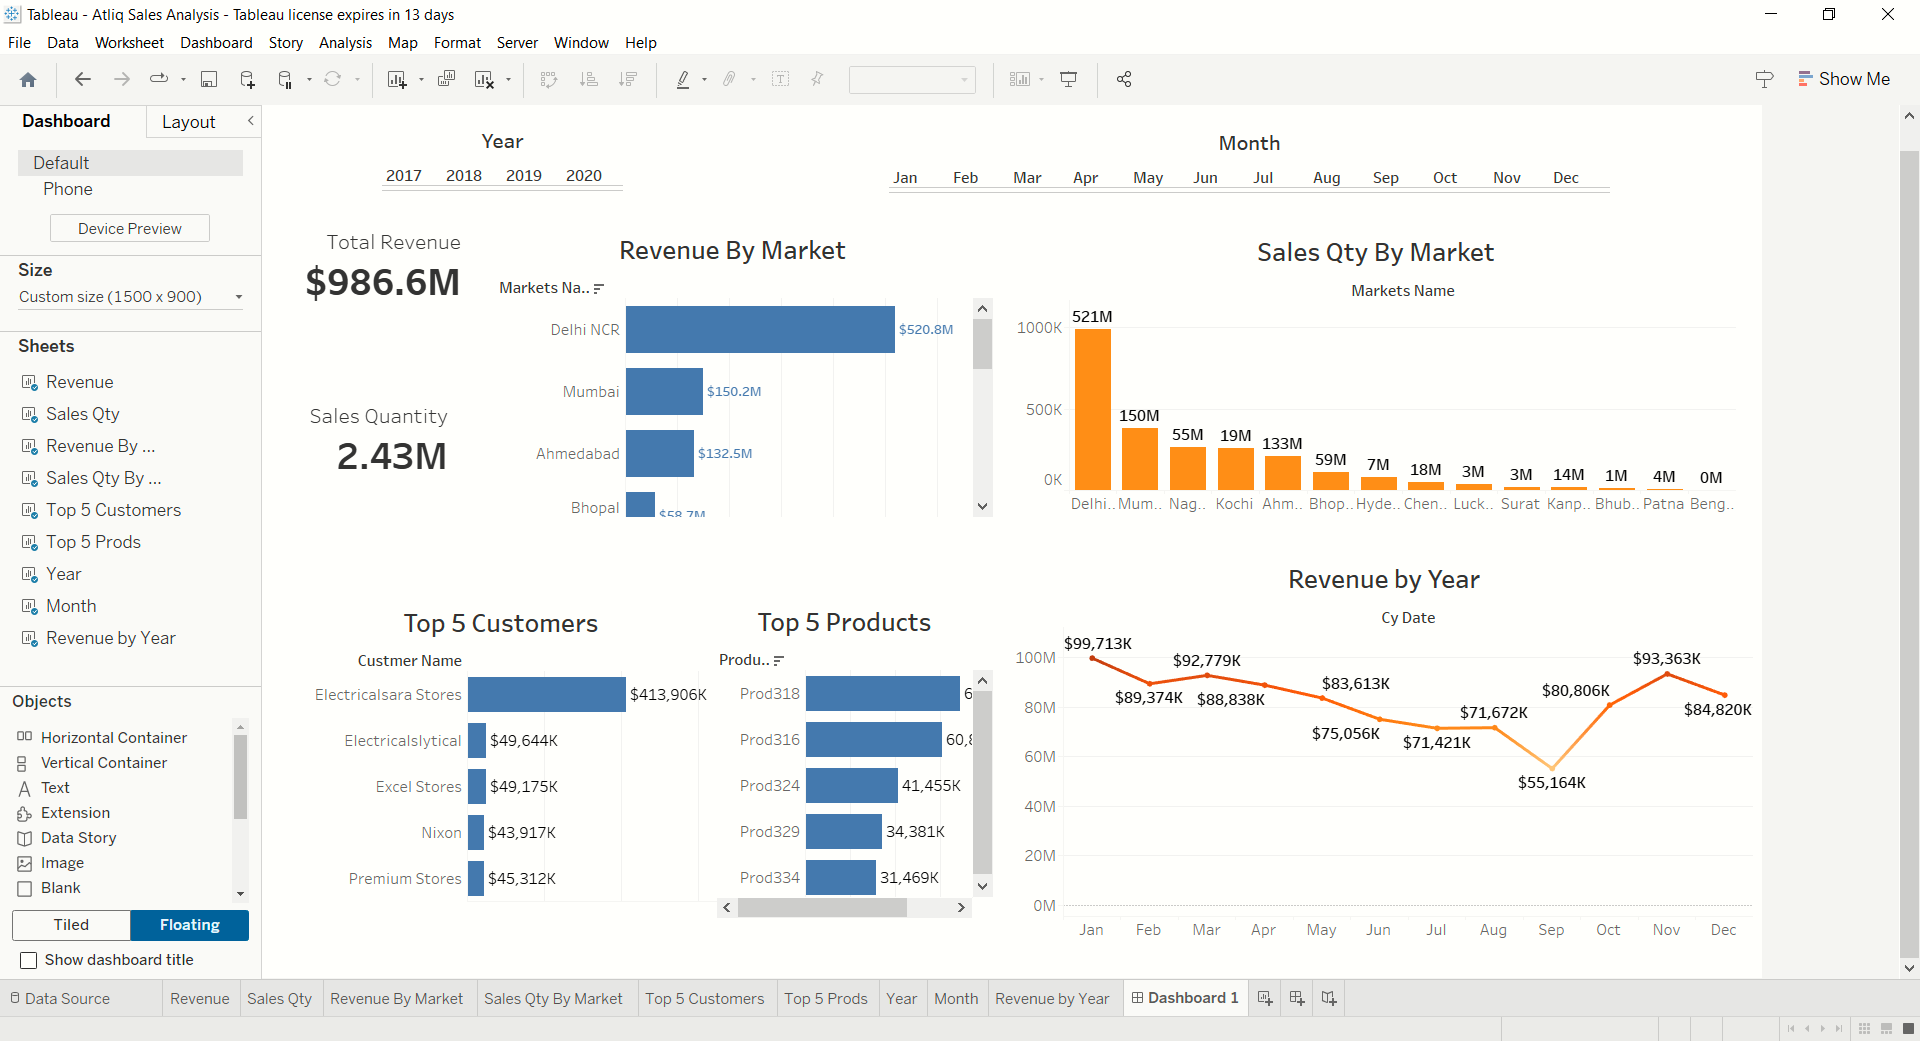

The page's visual inventory and layout, read from the dashboard file:
{"tool":"tableau","page":{"name":"Dashboard 1","canvas":[1500,900],"ordinal":0},"visuals":[{"type":"worksheet","title":"Year","mark":"Automatic","cols":["cy_date"],"box":[120,44,246,79]},{"type":"worksheet","title":"Month","mark":"Automatic","cols":["cy_date"],"box":[627,46,721,78]},{"type":"worksheet","title":"Revenue","mark":"Automatic","box":[23,149,184,84]},{"type":"worksheet","title":"Revenue By Market","mark":"Automatic","rows":["markets_name"],"cols":["Calculation_289356319316553728"],"box":[231,150,500,289]},{"type":"worksheet","title":"Sales Qty By Market","mark":"Automatic","rows":["sales_qty"],"cols":["markets_name"],"box":[754,152,720,294]},{"type":"worksheet","title":"Sales Qty","mark":"Automatic","box":[30,323,164,79]},{"type":"worksheet","title":"Revenue by Year","mark":"Automatic","rows":["Calculation_289356319316553728"],"cols":["cy_date"],"box":[753,479,738,397]},{"type":"worksheet","title":"Top 5 Prods","mark":"Automatic","rows":["product_code"],"cols":["Calculation_289356319316553728"],"box":[455,522,276,318]},{"type":"worksheet","title":"Top 5 Customers","mark":"Automatic","rows":["custmer_name"],"cols":["Calculation_289356319316553728"],"box":[21,523,436,314]}]}

Visuals, with their boxes on the page's 1500x900 design canvas (x1, y1, x2, y2). These are canvas units, not pixel positions in the 1920x1041 screenshot, which may show the page scaled, cropped or inside an application window:
"Year" worksheet: pyautogui.locateOnScreen(120, 44, 366, 123)
"Month" worksheet: pyautogui.locateOnScreen(627, 46, 1348, 124)
"Revenue" worksheet: pyautogui.locateOnScreen(23, 149, 207, 233)
"Revenue By Market" worksheet: pyautogui.locateOnScreen(231, 150, 731, 439)
"Sales Qty By Market" worksheet: pyautogui.locateOnScreen(754, 152, 1474, 446)
"Sales Qty" worksheet: pyautogui.locateOnScreen(30, 323, 194, 402)
"Revenue by Year" worksheet: pyautogui.locateOnScreen(753, 479, 1491, 876)
"Top 5 Prods" worksheet: pyautogui.locateOnScreen(455, 522, 731, 840)
"Top 5 Customers" worksheet: pyautogui.locateOnScreen(21, 523, 457, 837)
